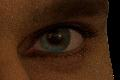eye: (41, 30, 72, 52)
